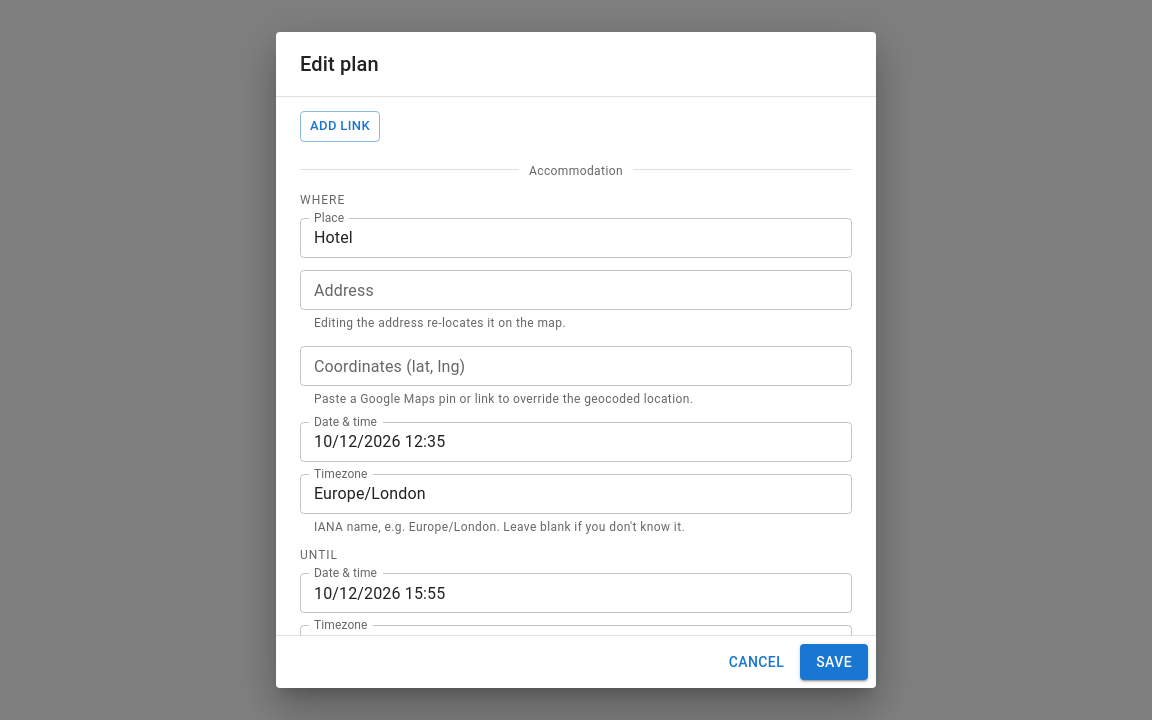
Test: PlanEditDialog — places & coordinates › Google Maps URL coordinate override › guides the user when a short link resolves to no coordinates
(page scrolled)
Type "https://maps.app.goo.gl/abc123" into the field labelled "Coordinates (lat, lng)" at coordinates (576, 366), box [300,346,852,386]
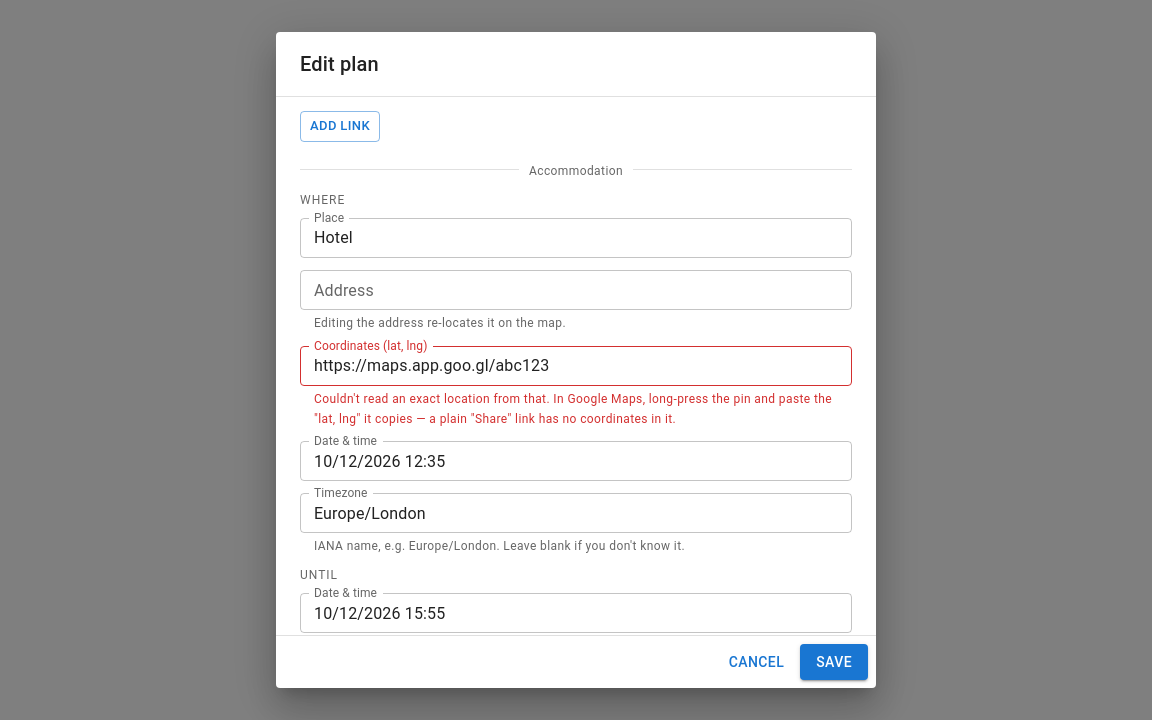
Now the text "no coordinates" is shown, box [314,392,832,426]
